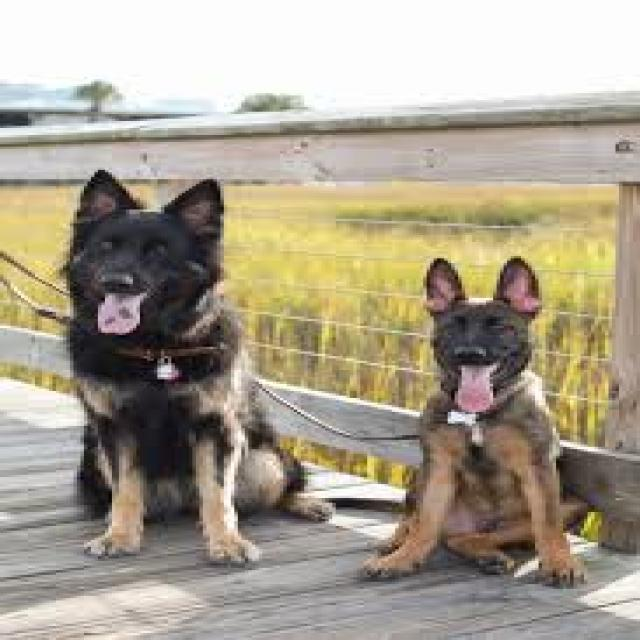Dog: (46, 163, 337, 568), (362, 249, 596, 590)
